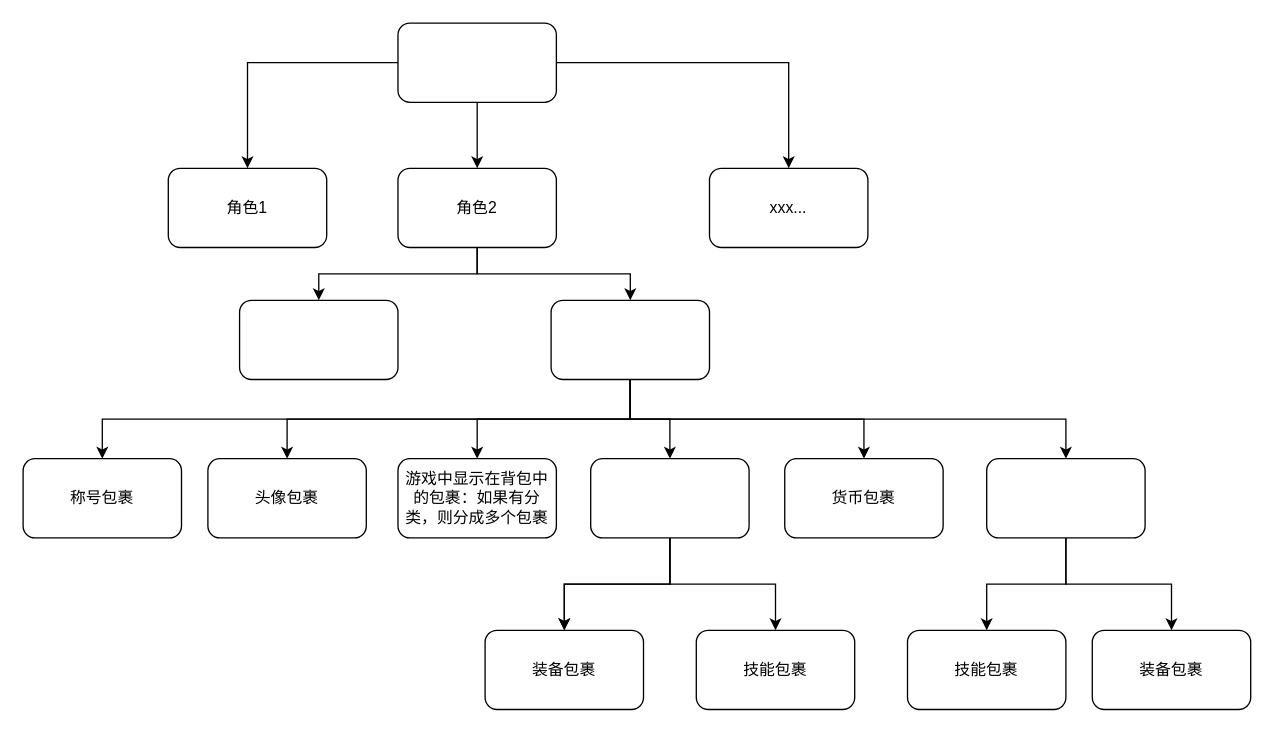
Some shapes in this 1274 by 733 pixel diagram are drawn without their labels. The shapes that lost their labels are listed below. From the top down, each one's centre as x and y in pixels, then its label:
the point at 476,62: 游戏世界角色数据
the point at 318,339: 角色属性：名称，等级，一些数值，等等
the point at 630,339: 包裹
the point at 669,497: 英雄包裹
the point at 1065,497: 宠物包裹
